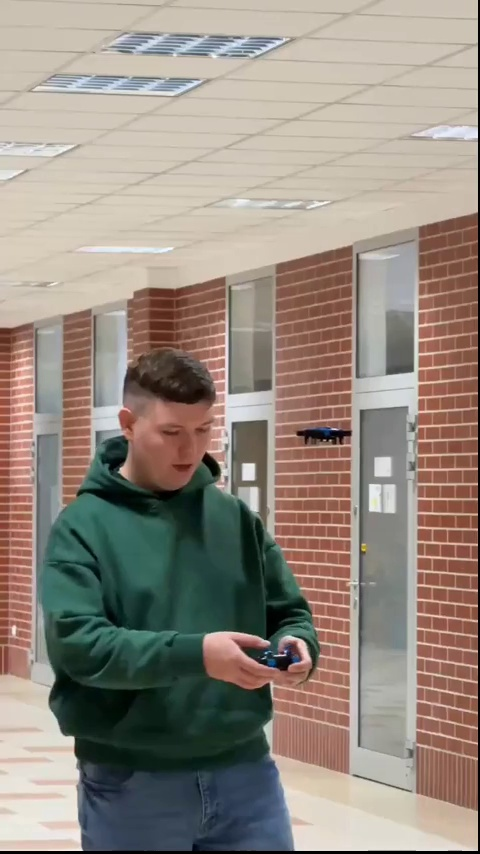drone: (298, 418, 349, 445)
no vest: (47, 347, 319, 843)
